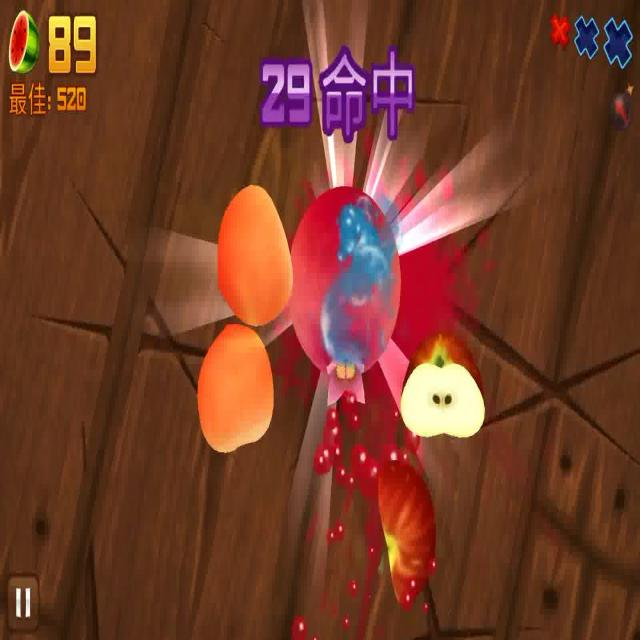fruit: (291, 185, 401, 388), (214, 185, 294, 318), (376, 443, 438, 607), (199, 326, 272, 452), (404, 331, 486, 442)
